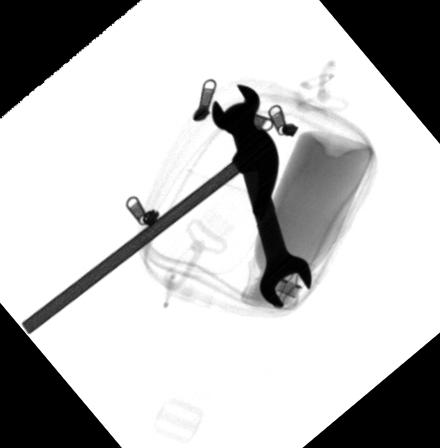Hammer: (20, 103, 277, 334)
Wrench: (212, 84, 310, 309)
